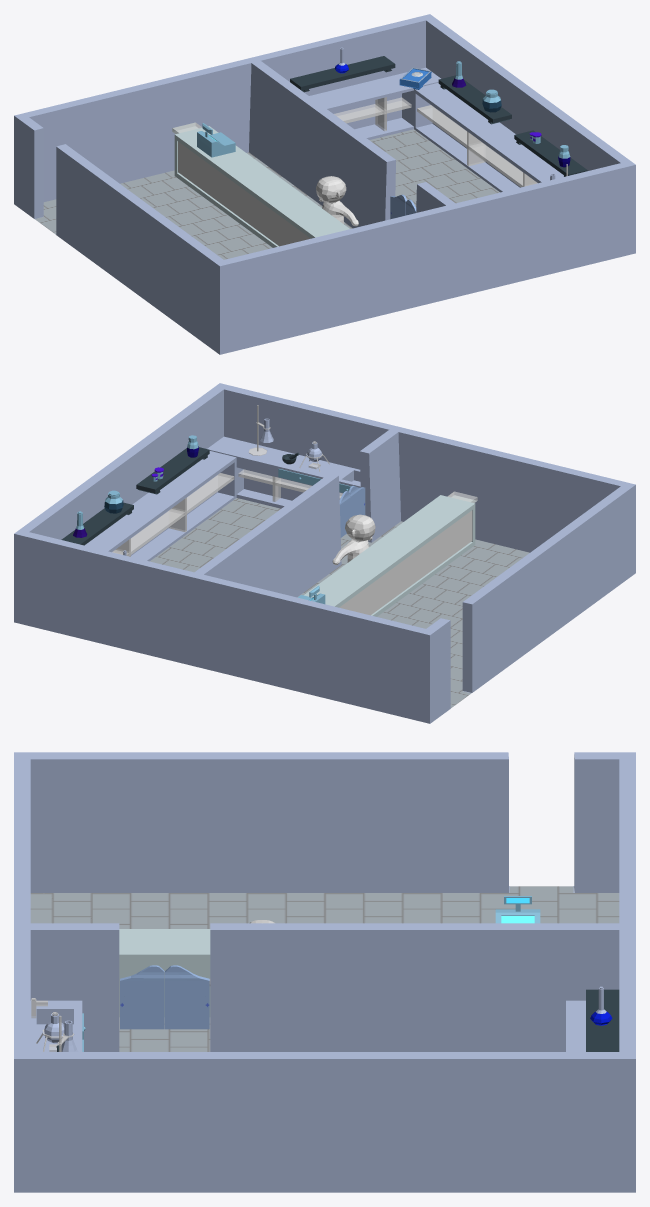
Rendered from magara51 1.fbx.
The picture shows the model from 3 angles, top to bottom: view 1: azimuth 30°, elevation 25°; view 2: azimuth 150°, elevation 25°; view 3: azimuth 270°, elevation 25°; orthographic projection. The views are drawn at different scales.
Visible parts, largest first — view 1: Plane, Cube.001, Cube.002, Plane.003, Cube.008, Cube.005, Cube.004, Cube.006, Cube.007, Cube.011, Cube.012; view 2: Plane, Cube.001, Cube.002, Plane.003, Cube.008, Cube.007, Cube.004, Cube.006; view 3: Plane, Cube.002, Cube.001, Plane.002, Plane.001, Cube.005, Cube.011.
Part boxes in pixels (x1,y1,x2,y2): Plane: [14, 14, 635, 354]; Cube.001: [309, 67, 563, 192]; Cube.002: [172, 122, 349, 247]; Plane.003: [178, 141, 310, 246]; Cube.008: [334, 97, 537, 187]; Cube.005: [290, 56, 395, 92]; Cube.004: [316, 176, 358, 226]; Cube.006: [438, 75, 511, 124]; Cube.007: [514, 130, 587, 176]; Cube.011: [197, 123, 235, 157]; Cube.012: [399, 67, 431, 89]; Plane: [14, 383, 635, 723]; Cube.001: [84, 436, 360, 561]; Cube.002: [304, 491, 477, 616]; Plane.003: [339, 510, 472, 615]; Cube.008: [112, 469, 342, 556]; Cube.007: [136, 447, 209, 494]; Cube.004: [332, 514, 375, 564]; Cube.006: [61, 502, 133, 545]; Plane: [14, 752, 635, 1192]; Cube.002: [119, 929, 210, 1017]; Cube.001: [30, 1000, 585, 1051]; Plane.002: [120, 965, 164, 1029]; Plane.001: [165, 965, 209, 1029]; Cube.005: [586, 989, 619, 1051]; Cube.011: [495, 896, 540, 923].
Size of the model in its own units: 666 by 140 by 571.
